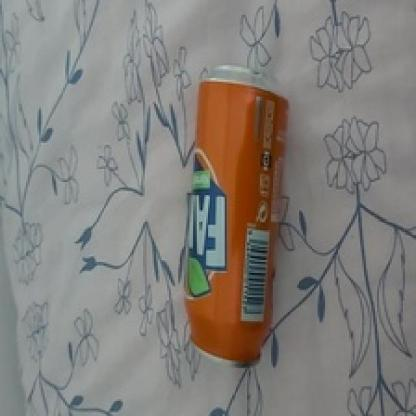Can: (177, 79, 294, 367)
